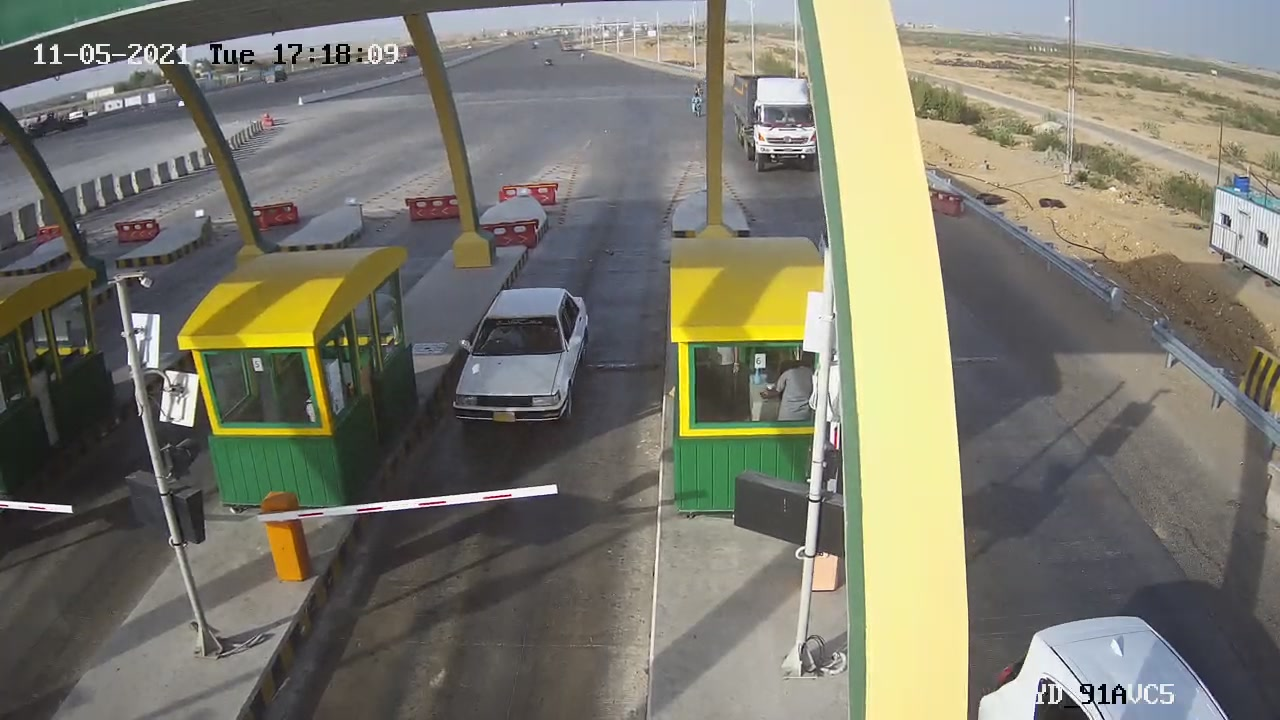F1: (437, 274, 607, 446)
